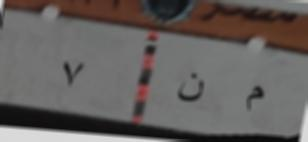7: (58, 55, 85, 93)
meem: (241, 80, 265, 119)
noon: (174, 67, 206, 111)
